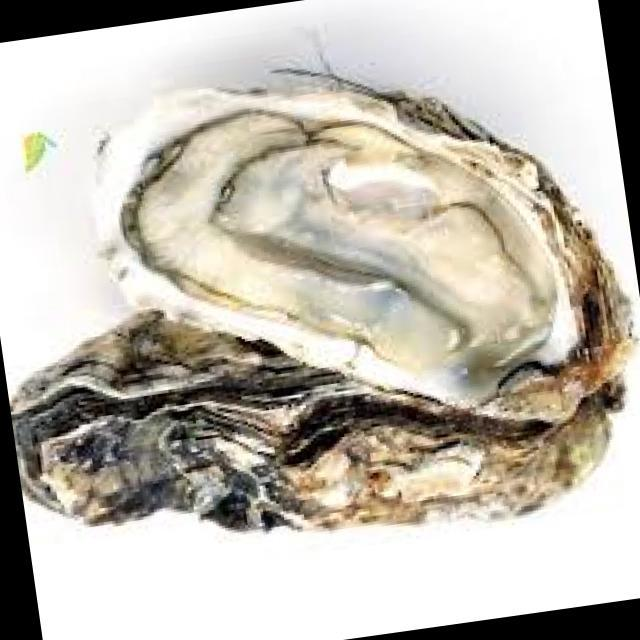Oyster-Closed: (9, 311, 562, 531)
Oyster-Open: (115, 80, 621, 412)
